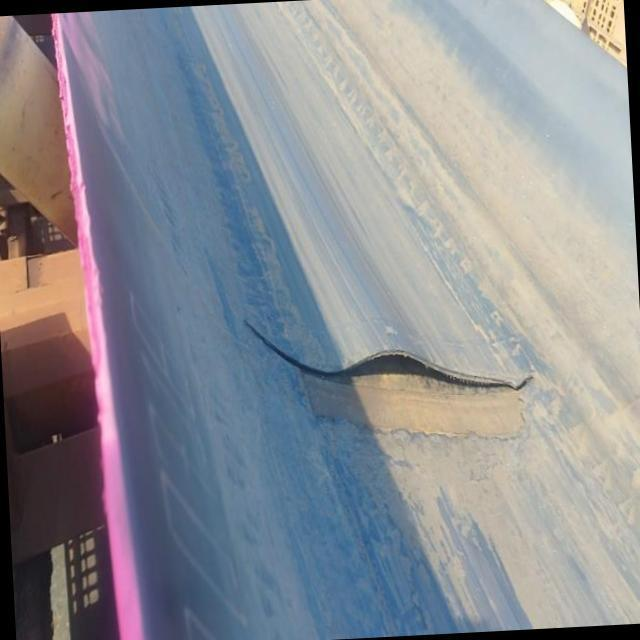Tear: (231, 316, 543, 401)
